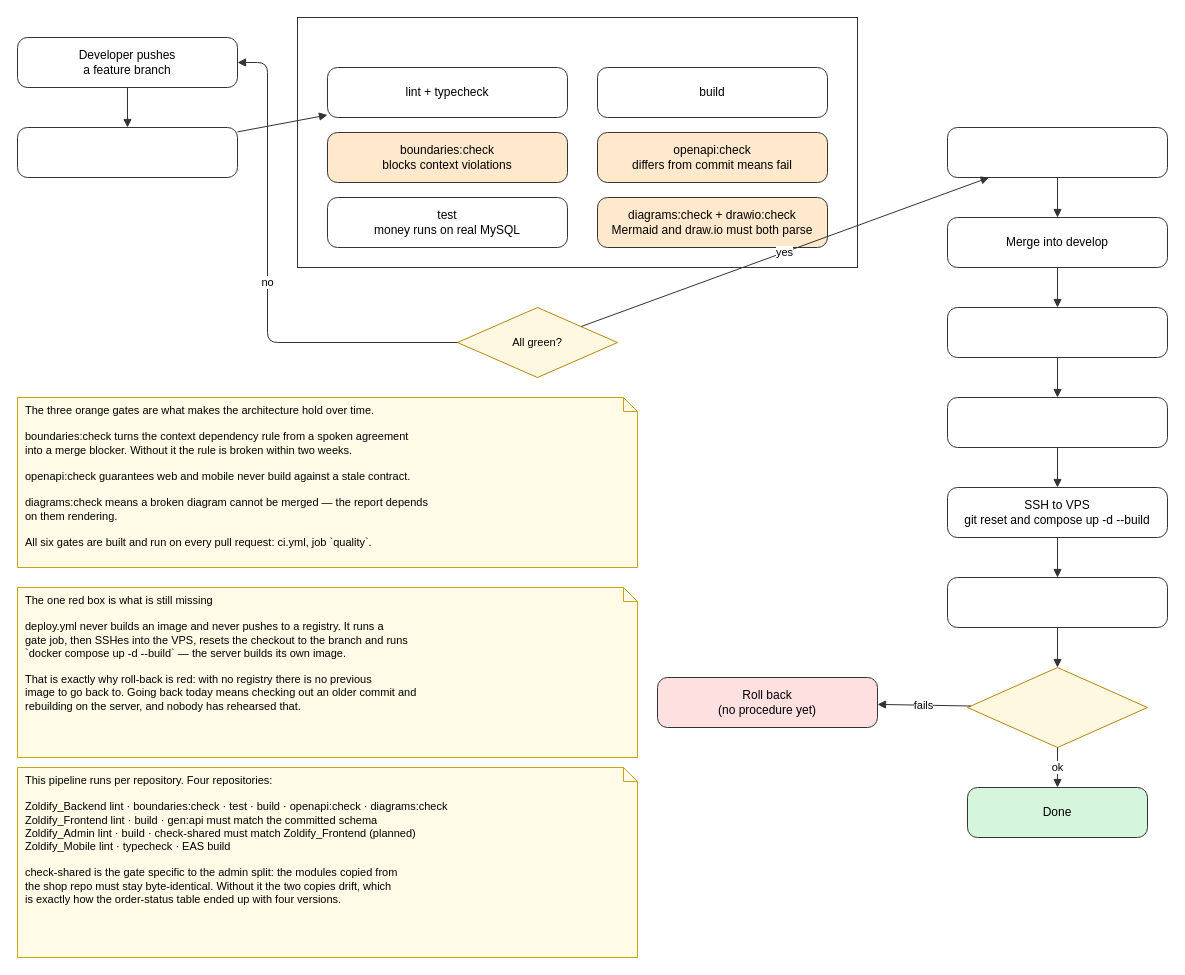
Image size: 1185x975. Some labels were removed from this diagram. Here are the shapes that lost their labels. From the top down, the box of each, then its label:
(16, 126, 238, 178): Open Pull Request
(296, 16, 858, 268): CI checks — all must pass
(946, 126, 1168, 178): Reviewed by another member
(946, 306, 1168, 358): Merge develop into main
(946, 396, 1168, 448): Gate: npm ci · build · lint (job `gate`)
(946, 576, 1168, 628): Run migrations service `migrate`, before api starts
(966, 666, 1148, 748): /api/v1/health ok?
